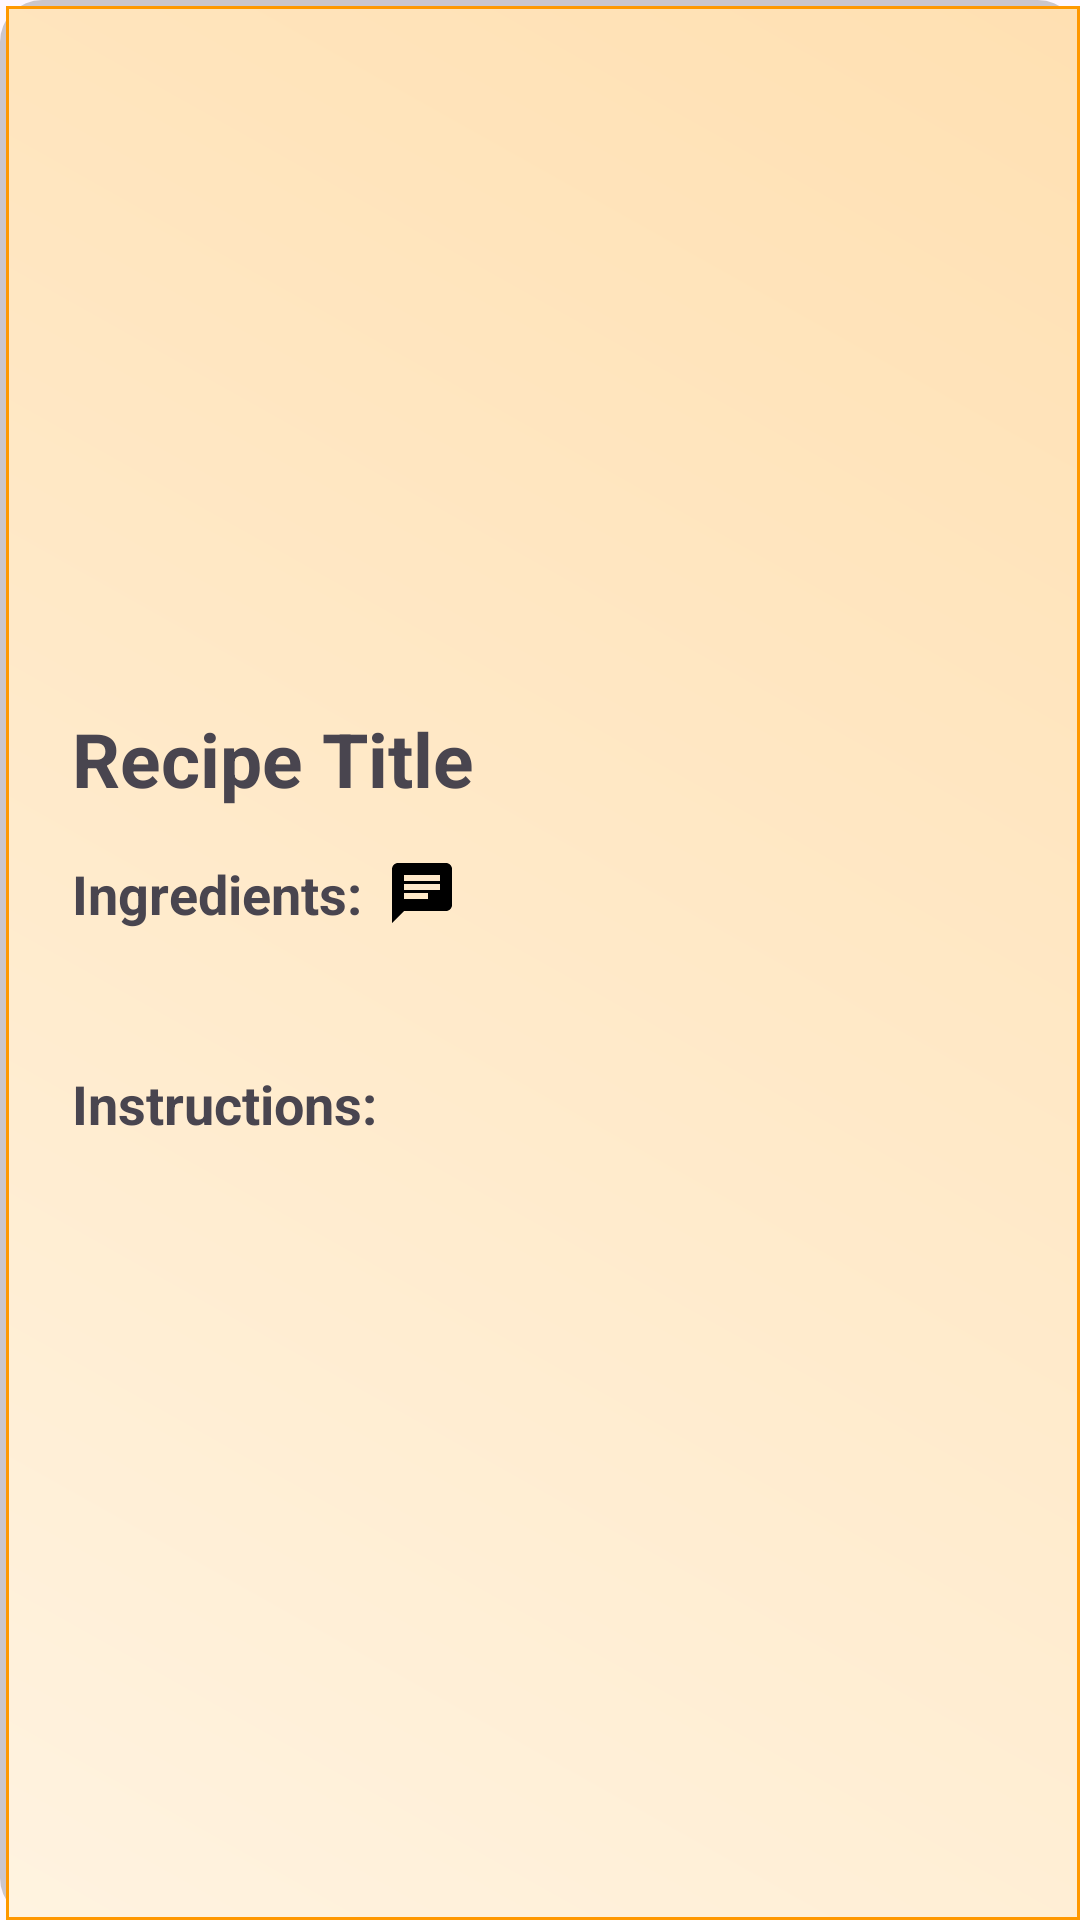

Named icons in this screenshot (1080x1920) and their bounding boxes, (x1, y1, x2, y2):
Tooltip: (392, 863, 452, 923)
